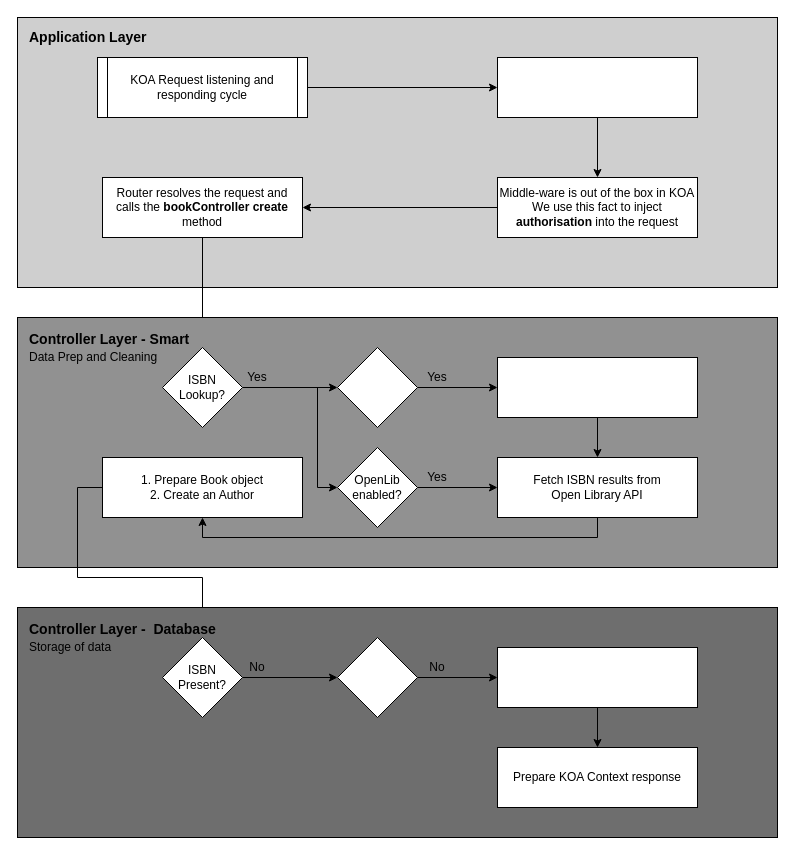
This 795x855 diagram has some shape labels left out. The centre of each missing label's shape, as x and y in pixels:
/api/books POST request is made with request body as below {"isbn": "..."}: point 597,87
Fetch ISBN results from Google Books API: point 597,387
GBooks enabled?: point 377,387
Store the book into the database: point 597,677
Title Present?: point 377,677
